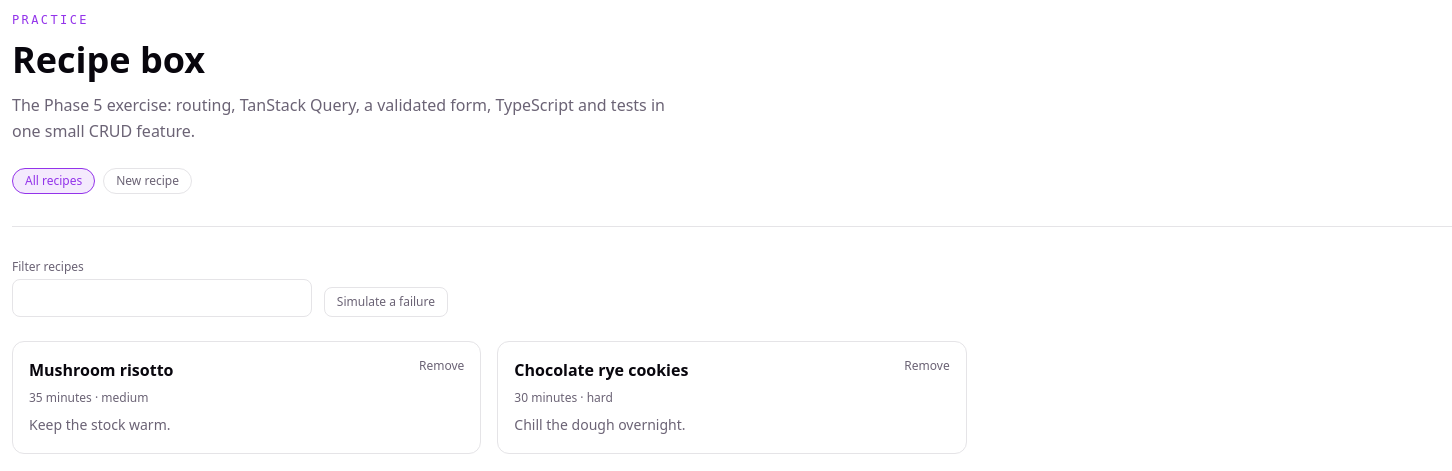
Test case: recipe box › loads the list and filters it as the user types
The image size is (1452, 471).
Later steps or results of the test are not shown.
Expected: the link "Mushroom risotto" is shown, top-left (29, 358), bottom-right (174, 382)
Type "cookie" into the search field labelled "Filter recipes" at point(162, 298), box top-left (12, 279), bottom-right (312, 317)
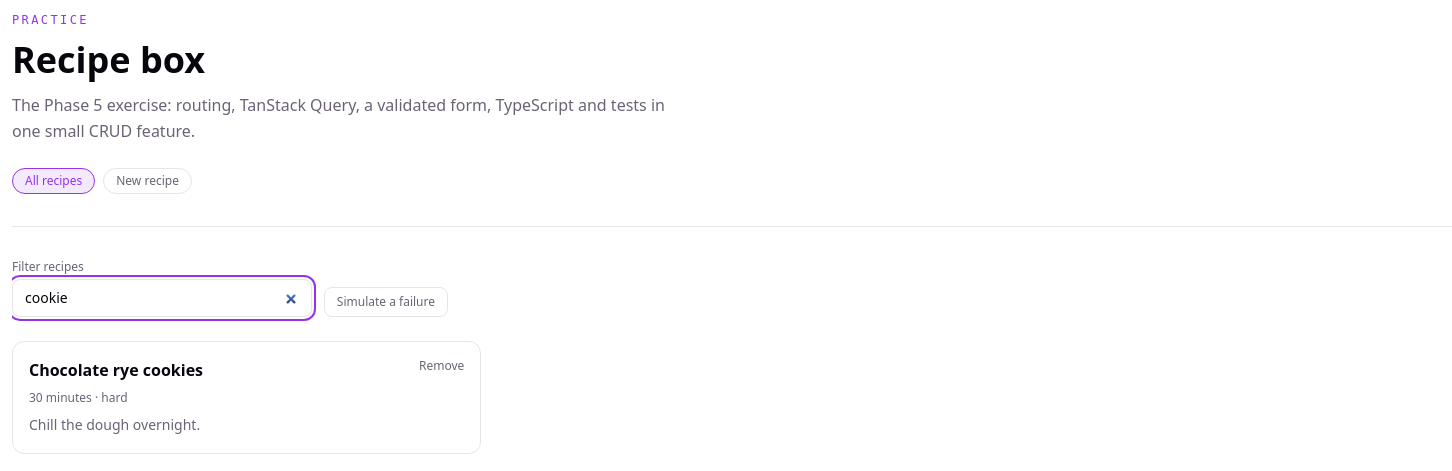
Expected: the link "Chocolate rye cookies" is shown, top-left (29, 358), bottom-right (203, 382)
Now the link "Mushroom risotto" is gone
